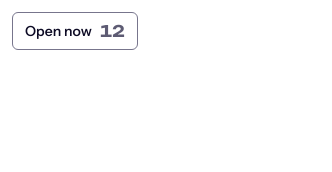
Scenario: toggles aria-pressed and adds a tick when selected
The image size is (332, 172).
Step 1. Click the button "Open now 12" → (75, 31), box [12,12,138,50]
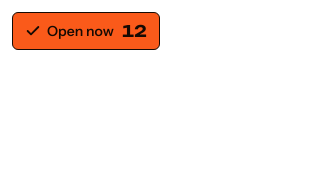
Now the icon is shown, box [25,23,41,39]
